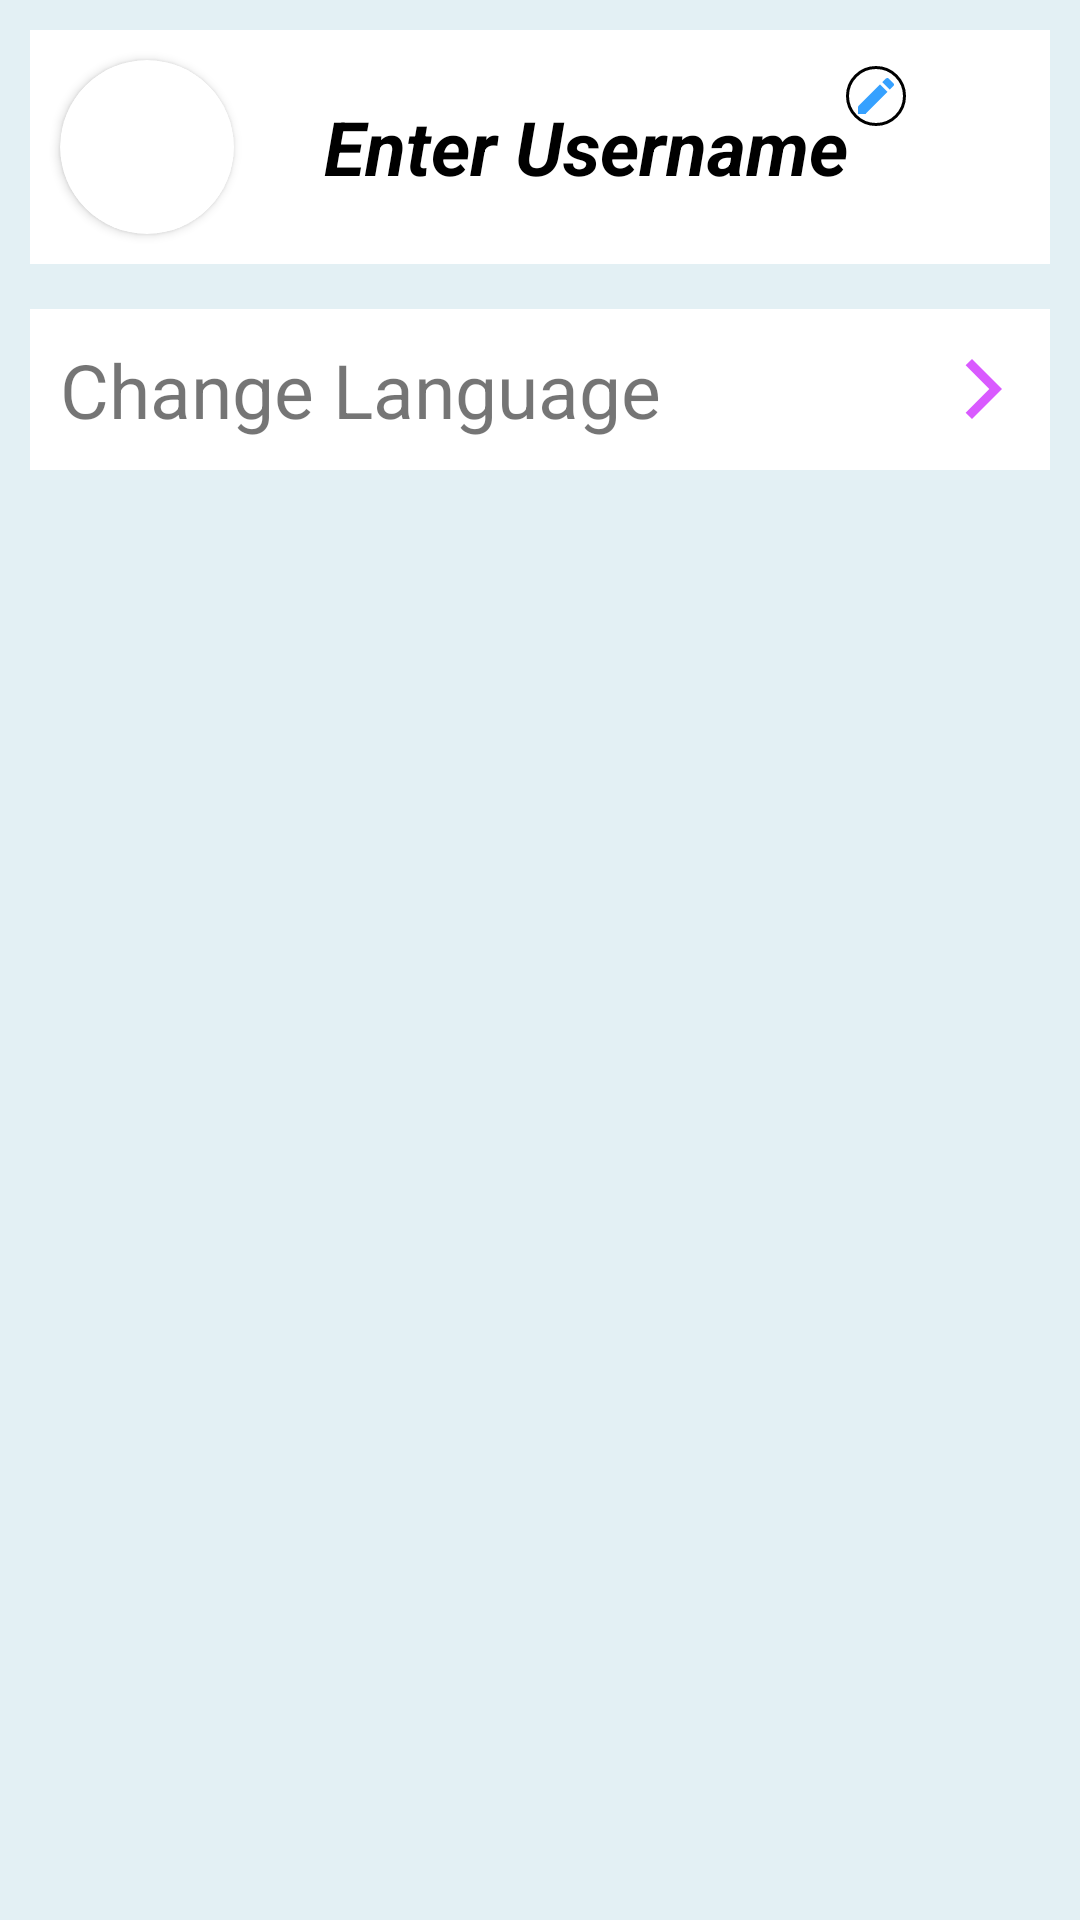

Locate icon controls on the screen. Image size 1080×1920, boxes as (x1, y1, x2, y2).
edit: (846, 66, 906, 126)
forward: (966, 359, 1002, 419)
